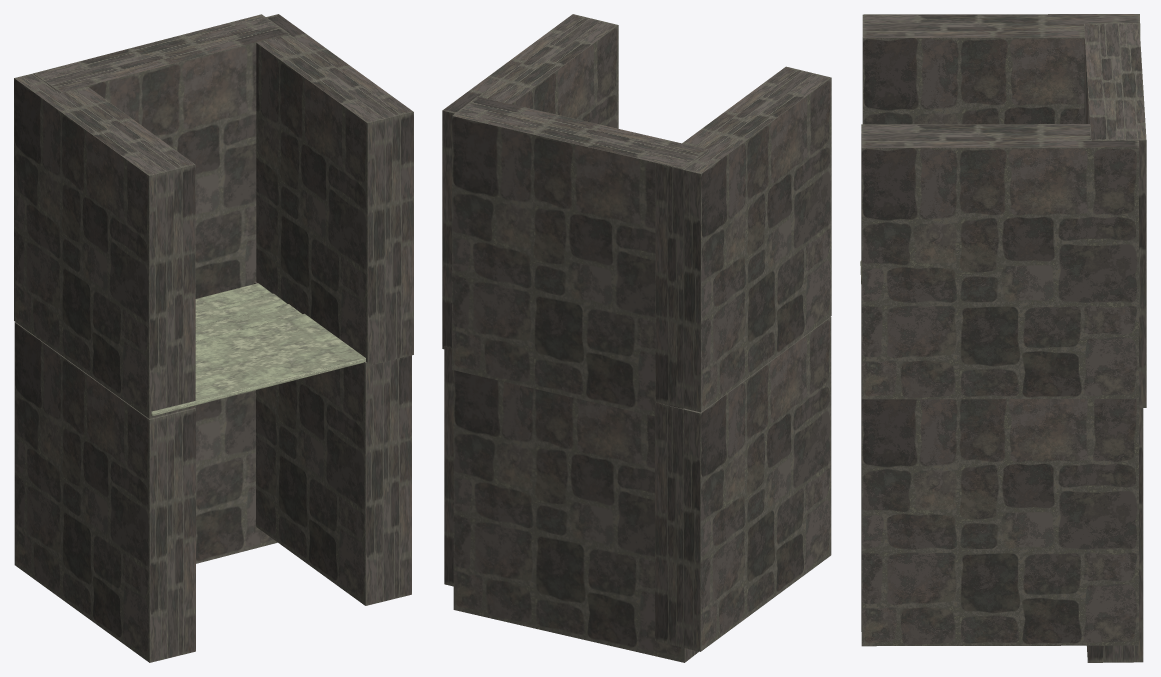
File: Stairs.gltf
3 renders of one model, left to right at view 1: azimuth 30°, elevation 25°; view 2: azimuth 150°, elevation 25°; view 3: azimuth 270°, elevation 25°, orthographic. The views are drawn at different scales.
Parts seen in each view (by area): view 1: 立方体.001, 立方体.005, 立方体.002, 立方体.004, 立方体.003, pedestal, 立方体.007; view 2: 立方体.003, 立方体.007, 立方体.001, 立方体.005, 立方体.002, 立方体.004; view 3: 立方体.002, 立方体.004, 立方体.001, 立方体.003, 立方体.007.
Part boxes in pixels (x1=…): 立方体.001: x1=14, y1=73, x2=195, y2=418; 立方体.005: x1=14, y1=322, x2=195, y2=662; 立方体.002: x1=256, y1=14, x2=413, y2=365; 立方体.004: x1=254, y1=282, x2=411, y2=605; 立方体.003: x1=33, y1=14, x2=289, y2=298; pedestal: x1=151, y1=283, x2=365, y2=415; 立方体.007: x1=195, y1=390, x2=277, y2=563; 立方体.003: x1=452, y1=96, x2=708, y2=416; 立方体.007: x1=453, y1=370, x2=698, y2=662; 立方体.001: x1=655, y1=66, x2=831, y2=412; 立方体.005: x1=655, y1=317, x2=831, y2=651; 立方体.002: x1=442, y1=14, x2=618, y2=349; 立方体.004: x1=444, y1=346, x2=453, y2=586; 立方体.002: x1=861, y1=124, x2=1138, y2=399; 立方体.004: x1=861, y1=385, x2=1138, y2=646; 立方体.001: x1=862, y1=14, x2=1140, y2=124; 立方体.003: x1=1084, y1=23, x2=1146, y2=407; 立方体.007: x1=1087, y1=408, x2=1143, y2=662.
Size of the model in its own units: 11.42 by 20.77 by 10.31.
Materials: 7 (7 with a texture image).
